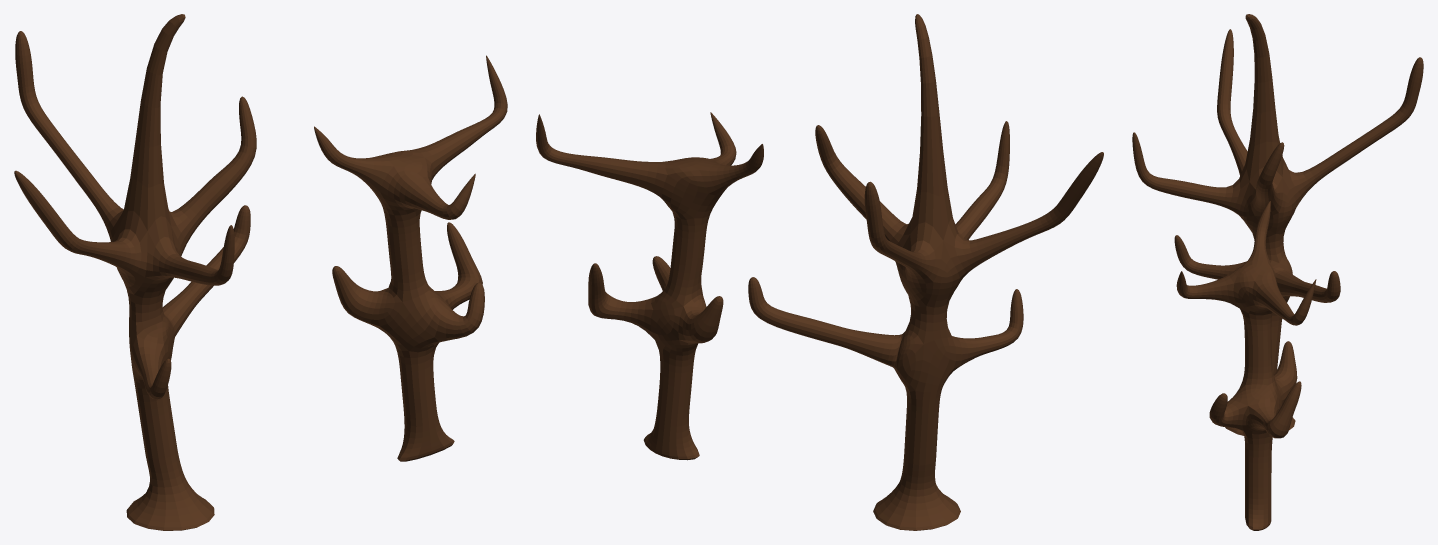
The model's file is barren_trees.fbx.
The picture shows the model from 3 angles, left to right: view 1: azimuth 30°, elevation 25°; view 2: azimuth 150°, elevation 25°; view 3: azimuth 270°, elevation 25°; orthographic projection. The views are drawn at different scales.
Visible parts, largest first — view 1: Vert, Vert.001; view 2: Vert, Vert.001; view 3: Vert, Vert.001.
Boxes of the visible parts, bbox=[...] form: Vert: bbox=[14, 14, 256, 530]; Vert.001: bbox=[314, 55, 507, 461]; Vert: bbox=[748, 14, 1103, 530]; Vert.001: bbox=[536, 112, 763, 460]; Vert: bbox=[1132, 14, 1423, 435]; Vert.001: bbox=[1176, 201, 1316, 530].
Size of the model in its own units: 874 by 788 by 504.
